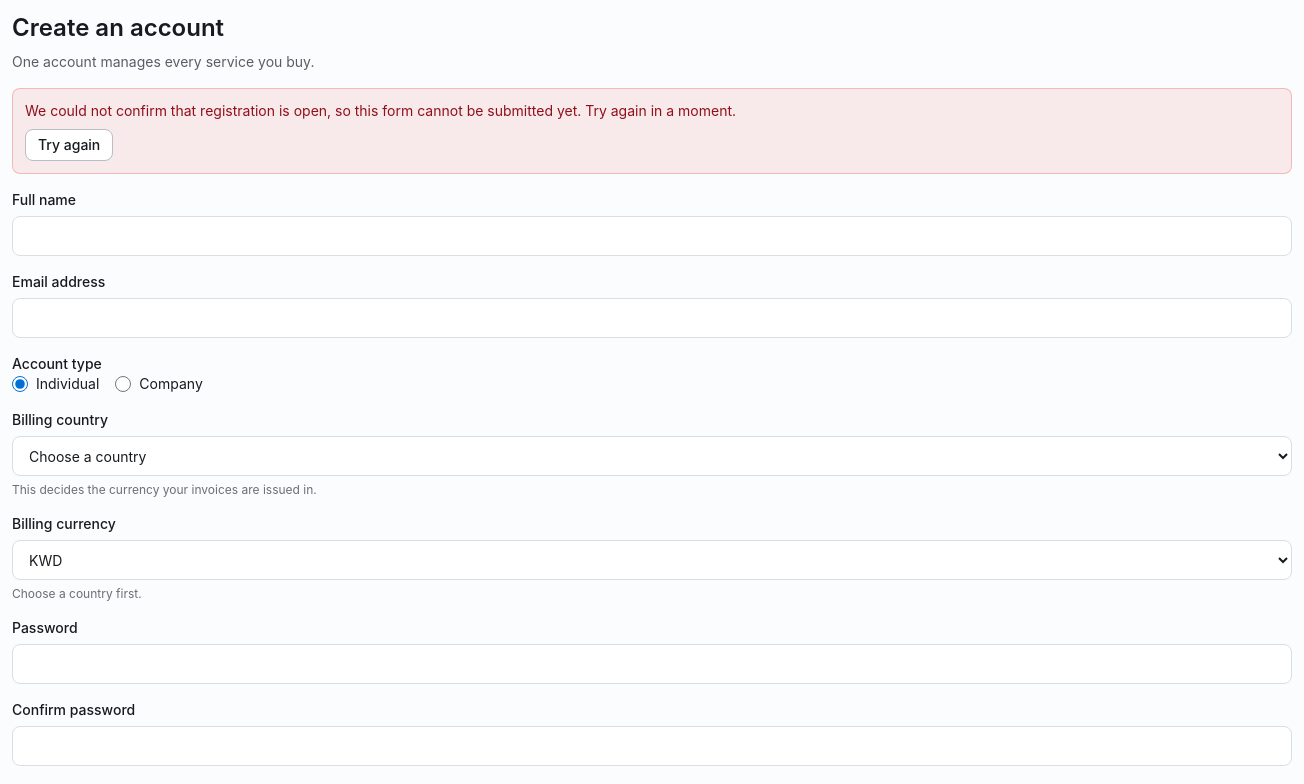
Test: registration that could not ask whether it may register › offers the same way to ask again when the answer did not say, and it asks again
What coordinates should you click on to do the following:
click the button "Try again"
I would click on:
 (69, 145)
Its box is left=25, top=129, right=113, bottom=161.
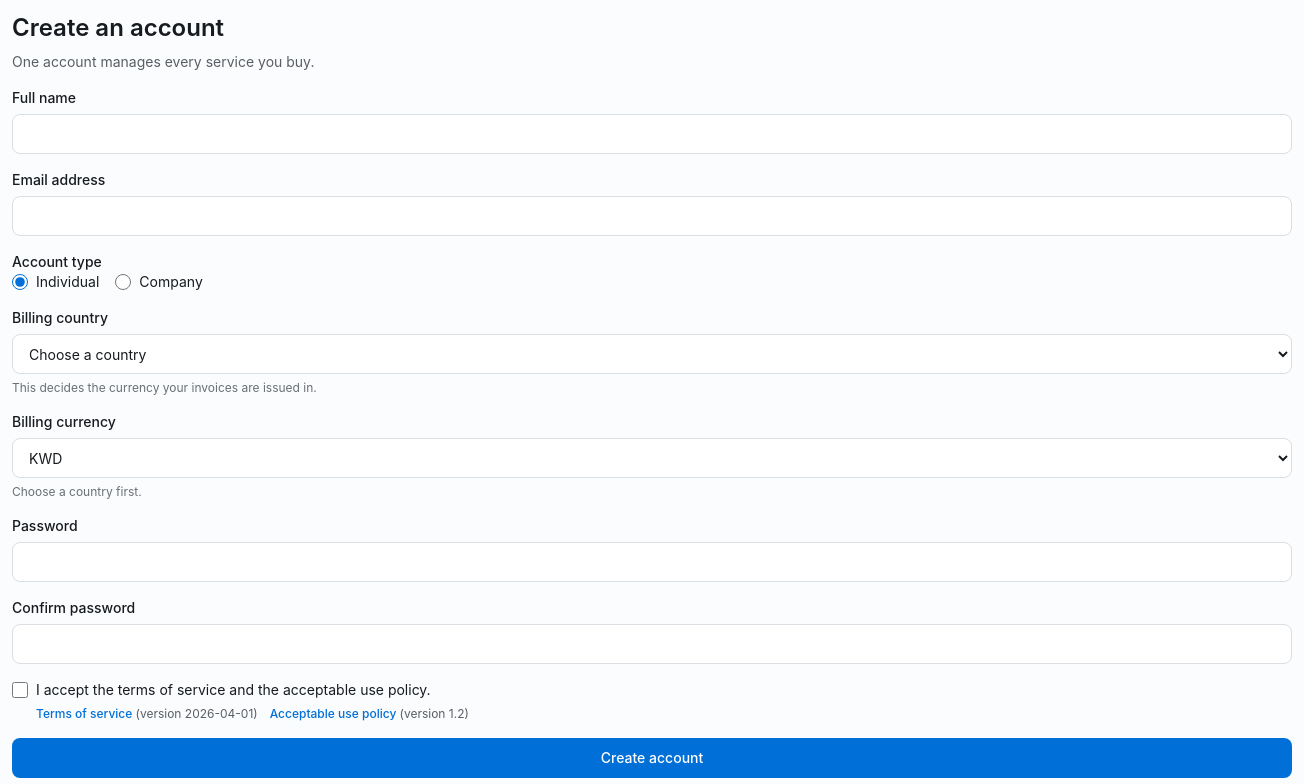
expect the button "Create account" is enabled: met, box left=12, top=738, right=1292, bottom=778
